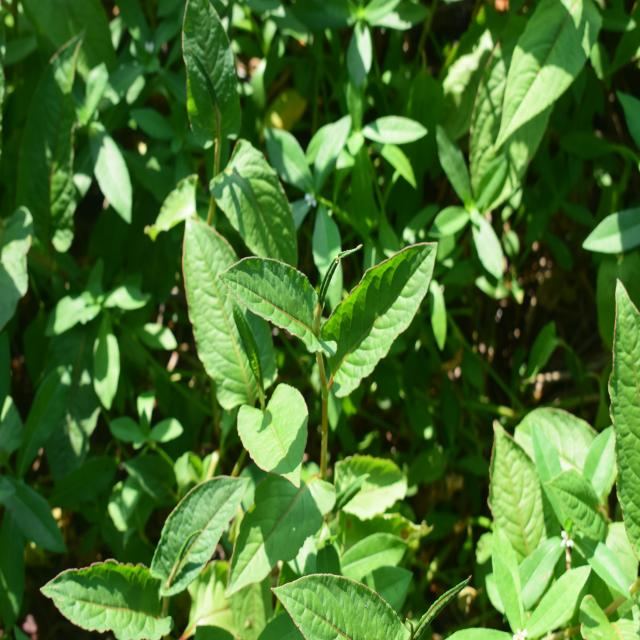Chinese_knotweed: (184, 216, 426, 424), (52, 485, 268, 640)
